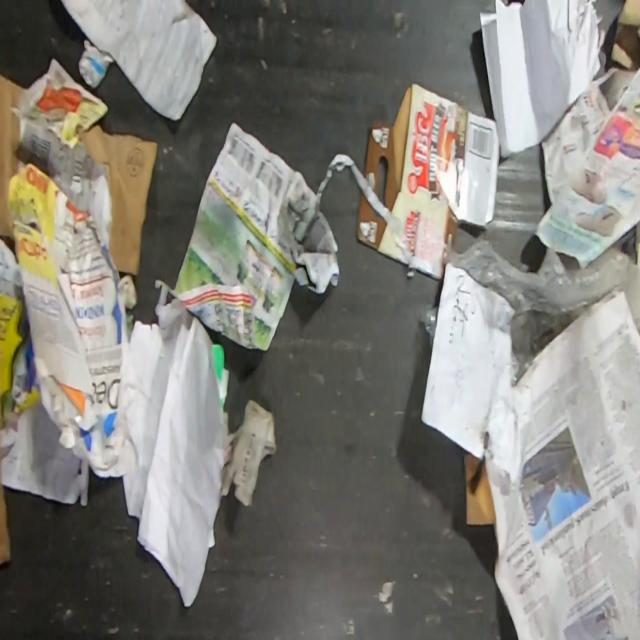cardboard: (0, 71, 159, 278), (364, 80, 501, 279), (354, 188, 408, 266), (461, 447, 496, 527), (0, 441, 12, 566)
soft_plastic: (445, 237, 640, 387), (418, 304, 439, 349)
